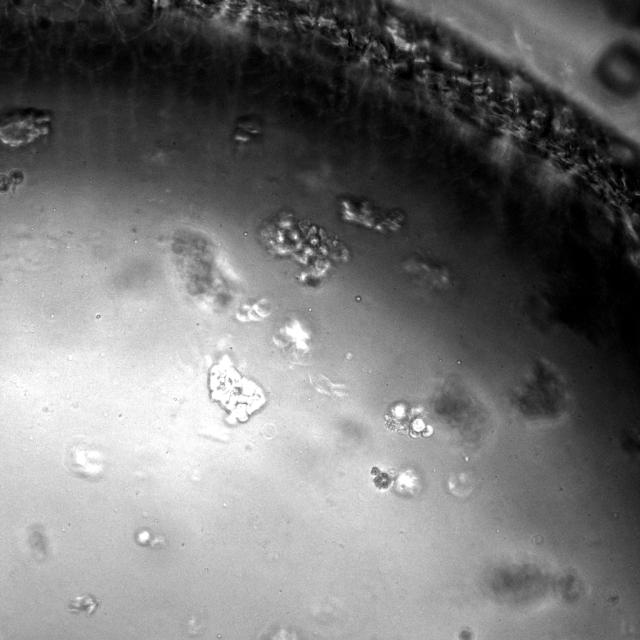organoid: (260, 210, 349, 286), (171, 229, 234, 310), (209, 356, 265, 422), (432, 377, 486, 443), (514, 358, 567, 417), (338, 195, 406, 232), (0, 108, 51, 146), (385, 401, 433, 437), (402, 254, 451, 289), (371, 468, 420, 497), (233, 114, 262, 146), (236, 298, 271, 321), (0, 169, 23, 192)
